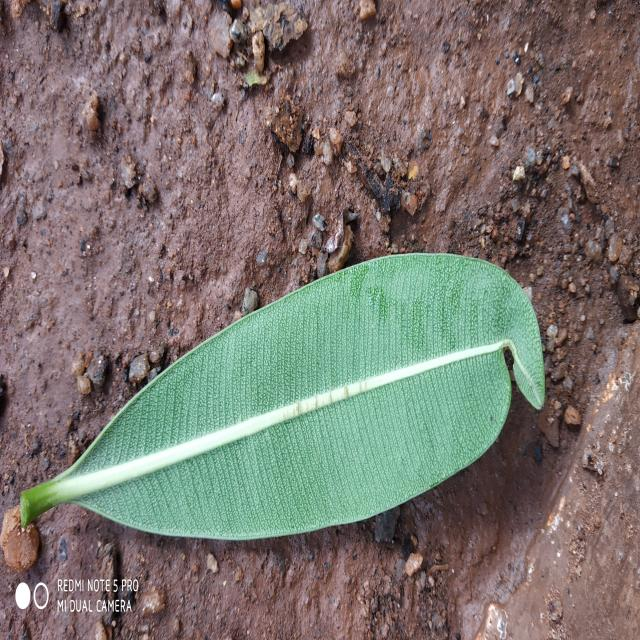ganigale: (21, 253, 545, 540)
